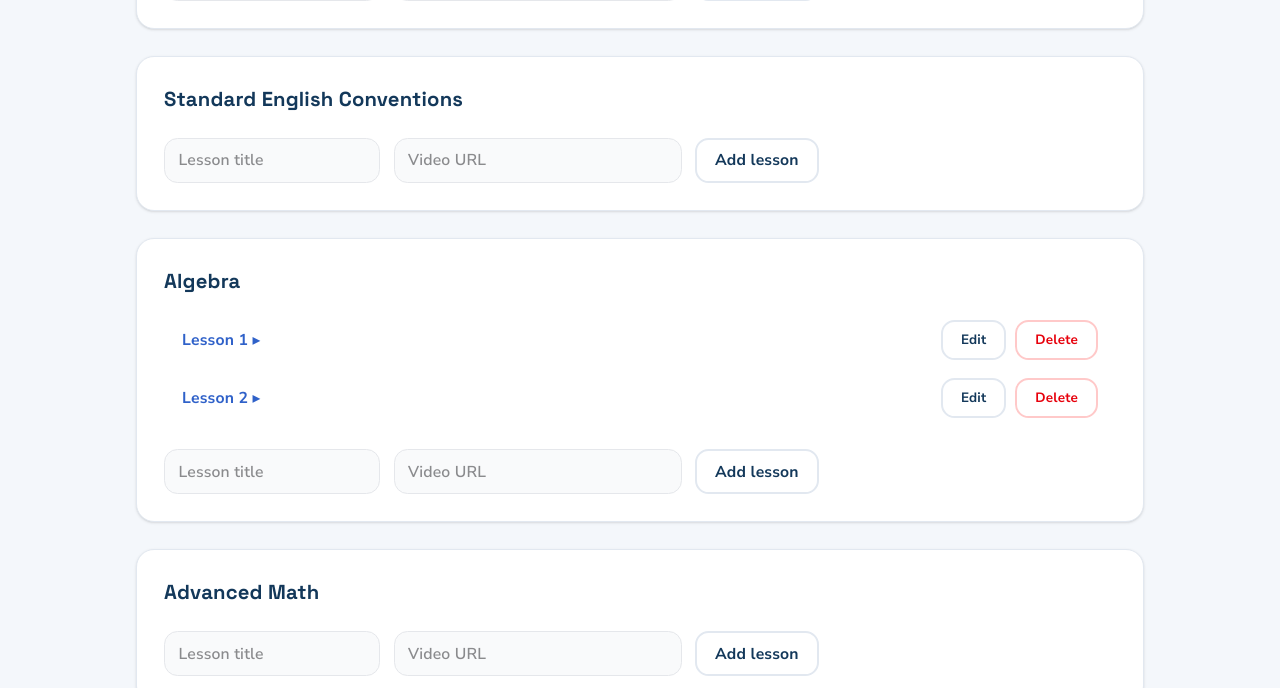
Test case: TeacherCourseView › shows fallback error for non-error rejection
(page scrolled)
Check: the text "Lesson 1 ▸" is shown, box [182,329,261,351]
Click the 1st button "Delete": (1057, 340) [1015,320,1098,360]
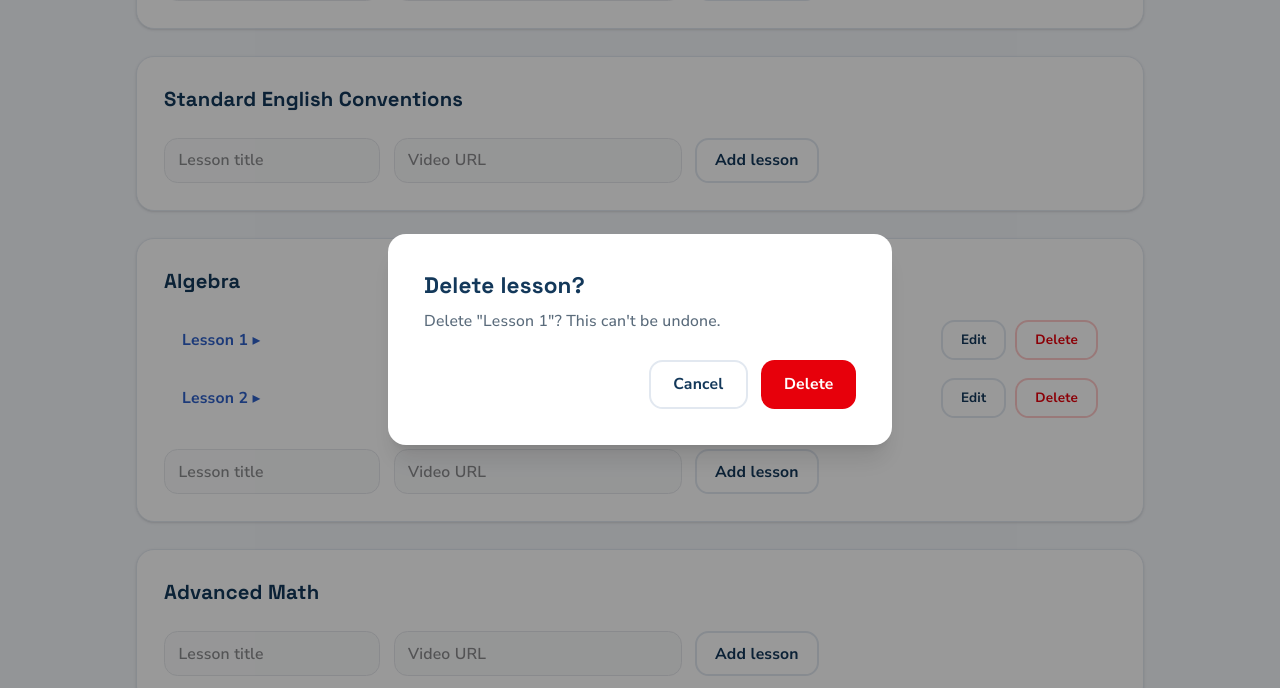
Click the button "Delete": (809, 384) [761,360,856,408]
(page scrolled)
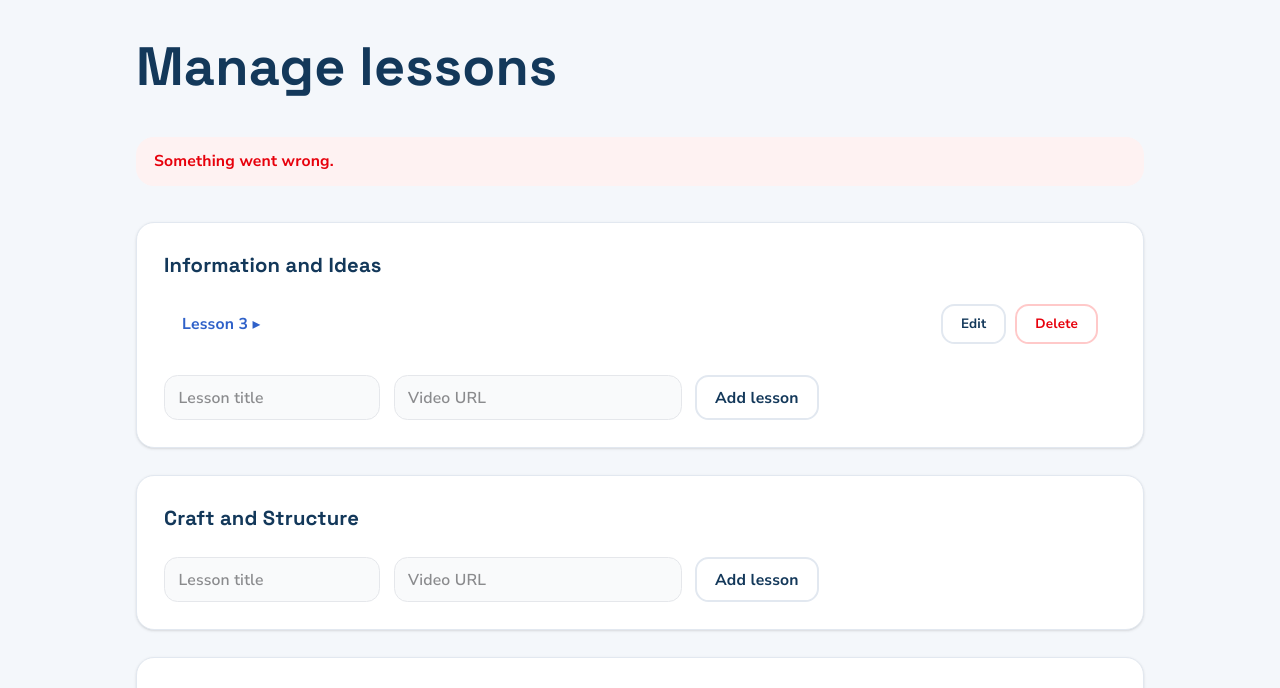
Check: the text "Something went wrong." is shown, box [136,136,1144,186]
